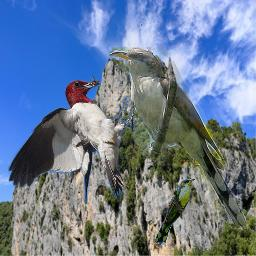Cuckoo: (109, 47, 248, 231), (155, 179, 195, 245)
Woodpecker: (8, 76, 135, 204)
